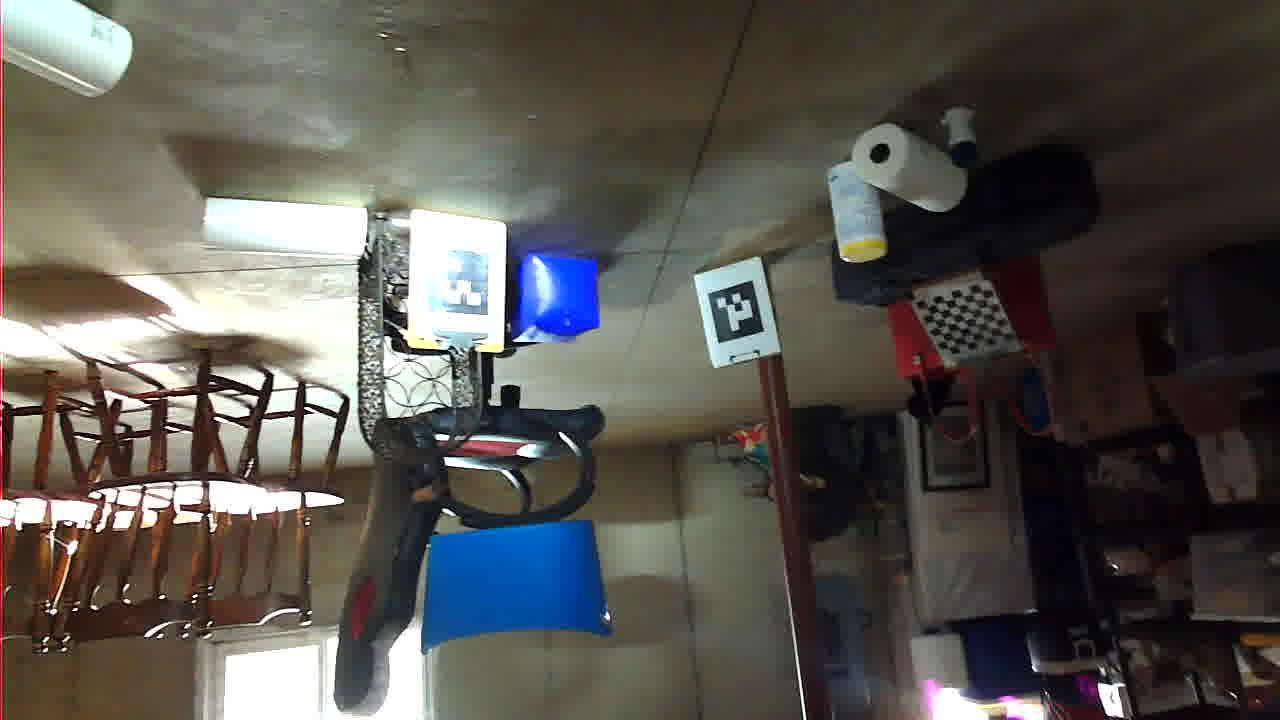coral: (1146, 623, 1278, 720), (912, 463, 1079, 520)
